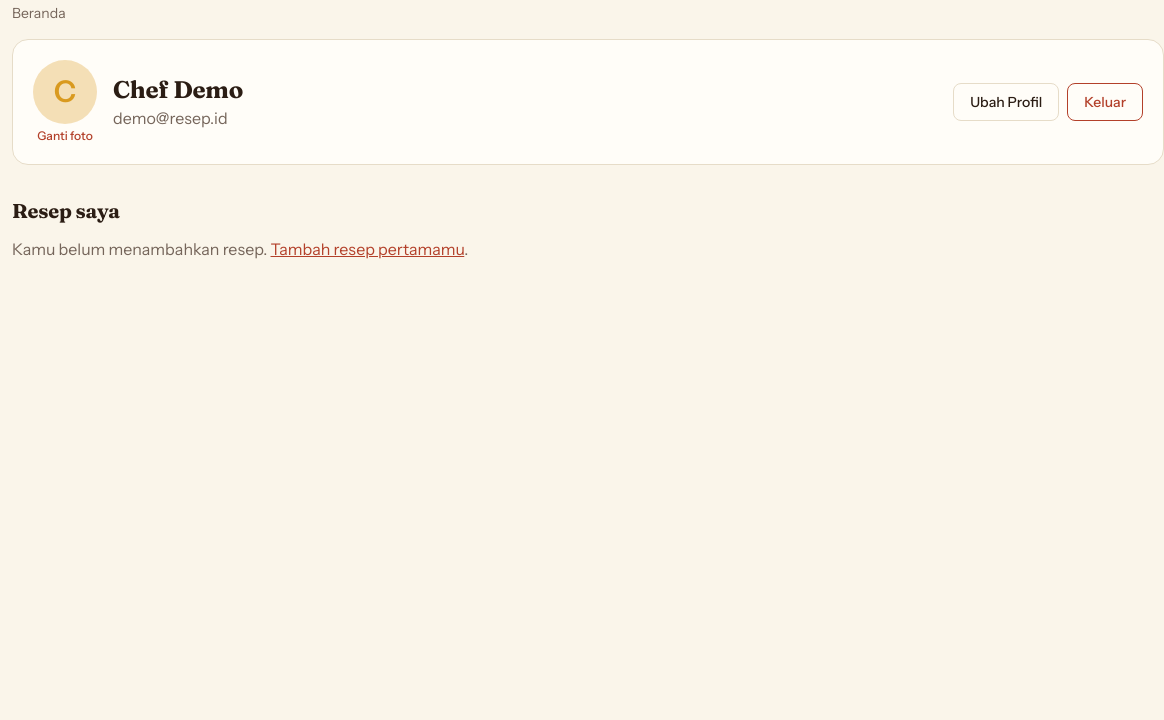
Test: ProfilePage › ubah profil: berhasil memperbarui nama
Click the button "Ubah Profil". click: (1006, 102)
box: x1=953 y1=83 x2=1059 y2=121
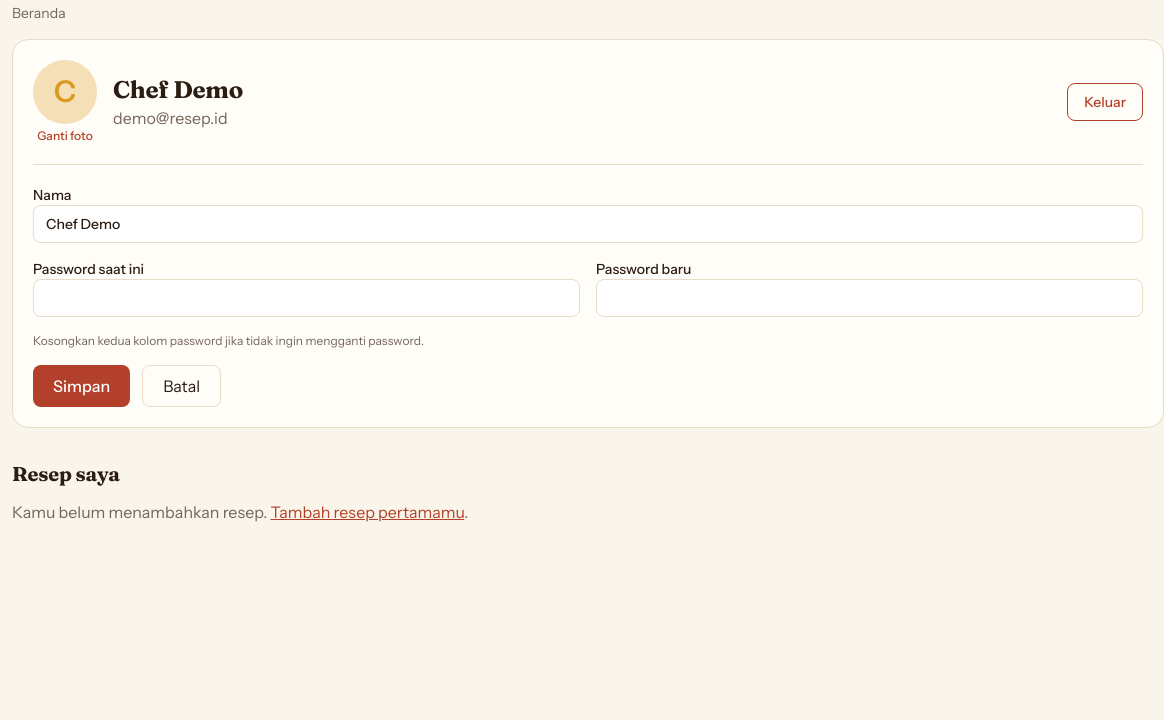
Expected: the button "Ubah Profil" is gone
Expected: the field labelled "Nama" holds "Chef Demo"
Replace the text in the field labelled "Nama" with "Nama Baru". click: (588, 224)
box: x1=33 y1=205 x2=1143 y2=243
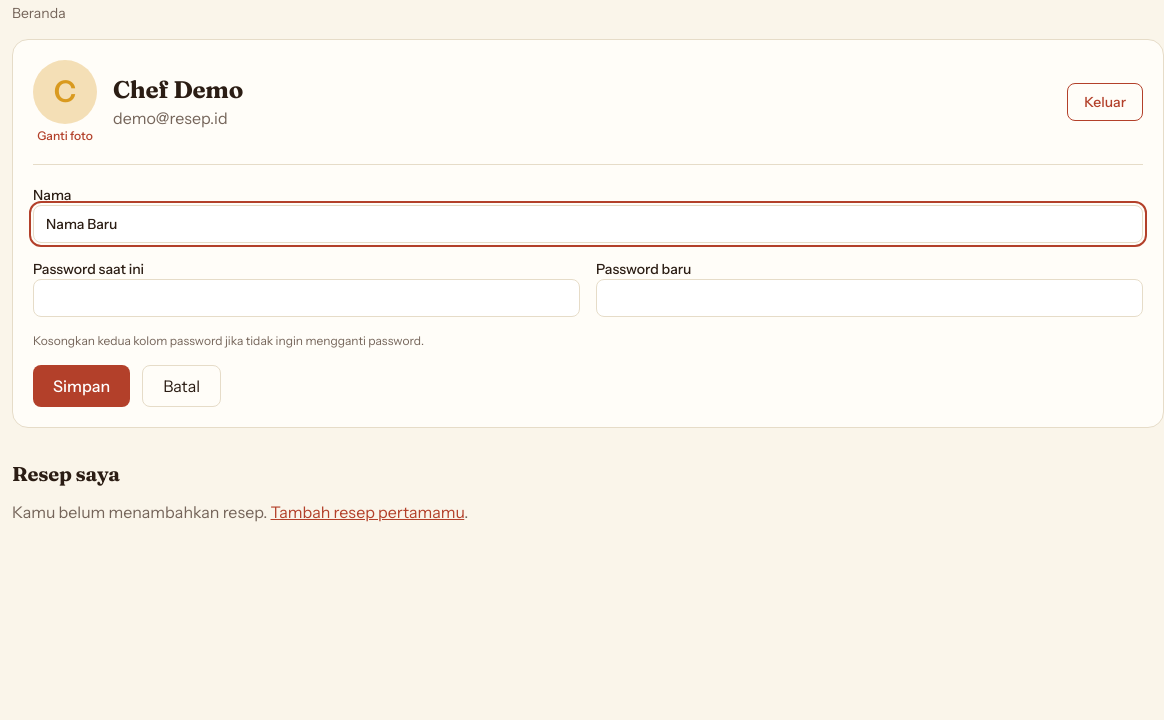
Type "demo1234" into the password field labelled "Password saat ini". click: (306, 298)
box: x1=33 y1=279 x2=580 y2=317
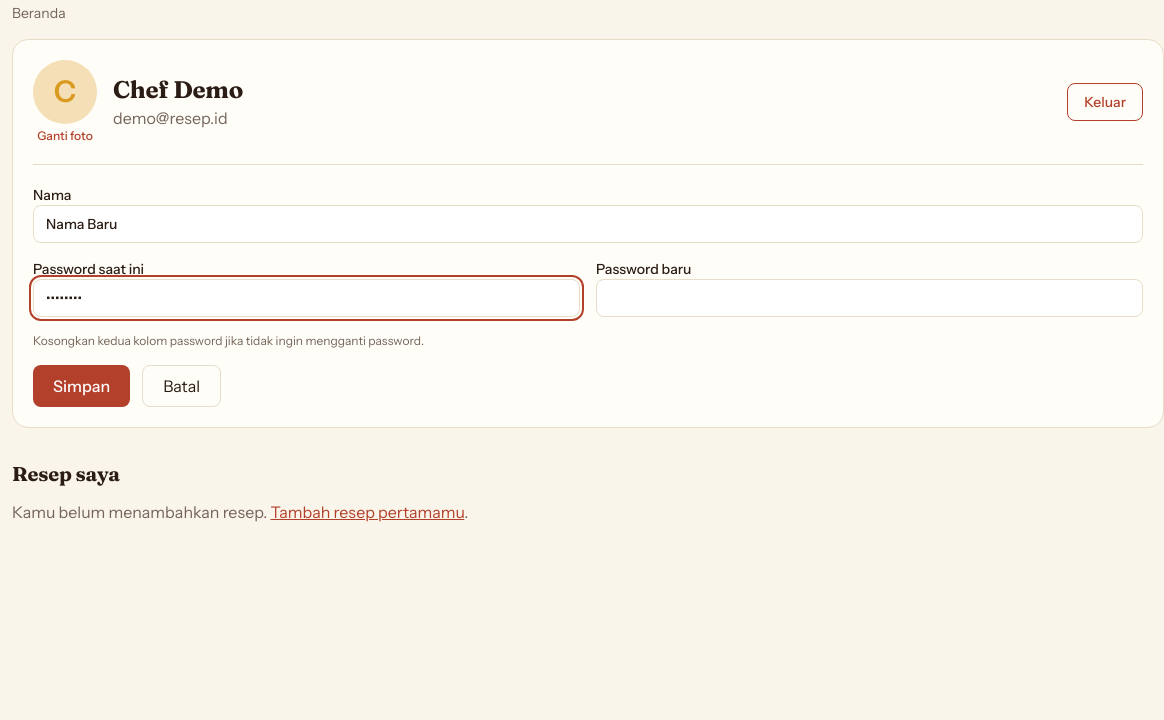
Type "baru12345" into the password field labelled "Password baru". click: (870, 298)
box: x1=596 y1=279 x2=1143 y2=317
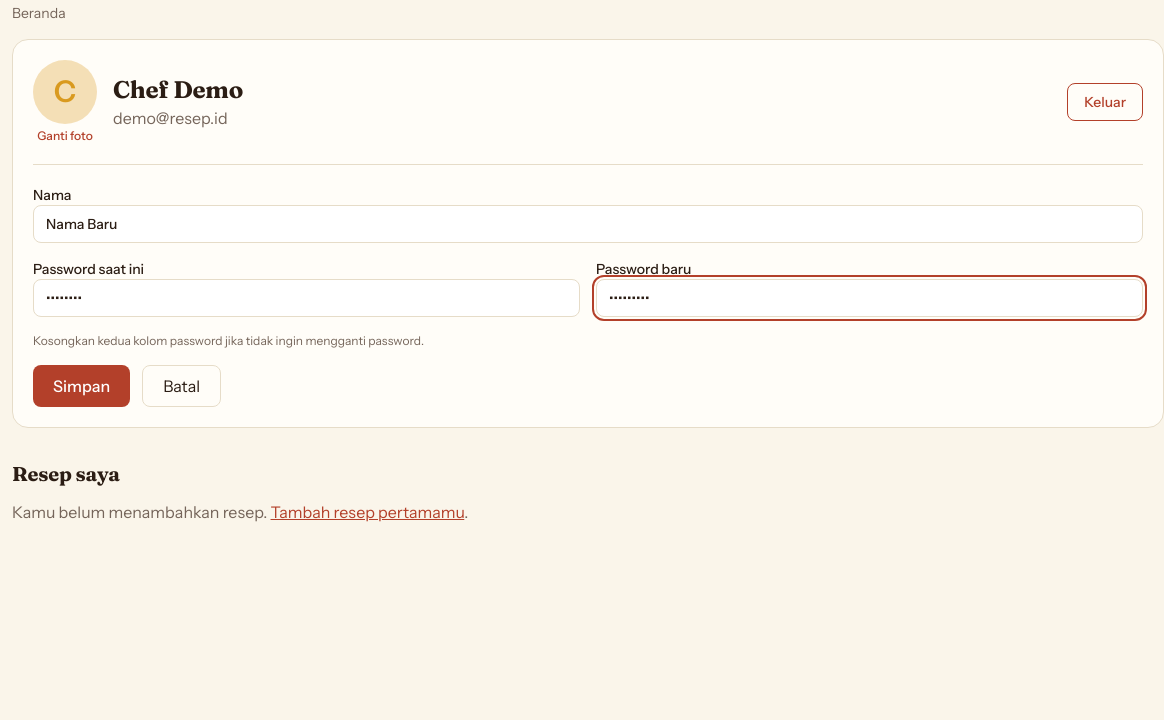
Click the button "Simpan". click: (82, 386)
box: x1=33 y1=365 x2=130 y2=407
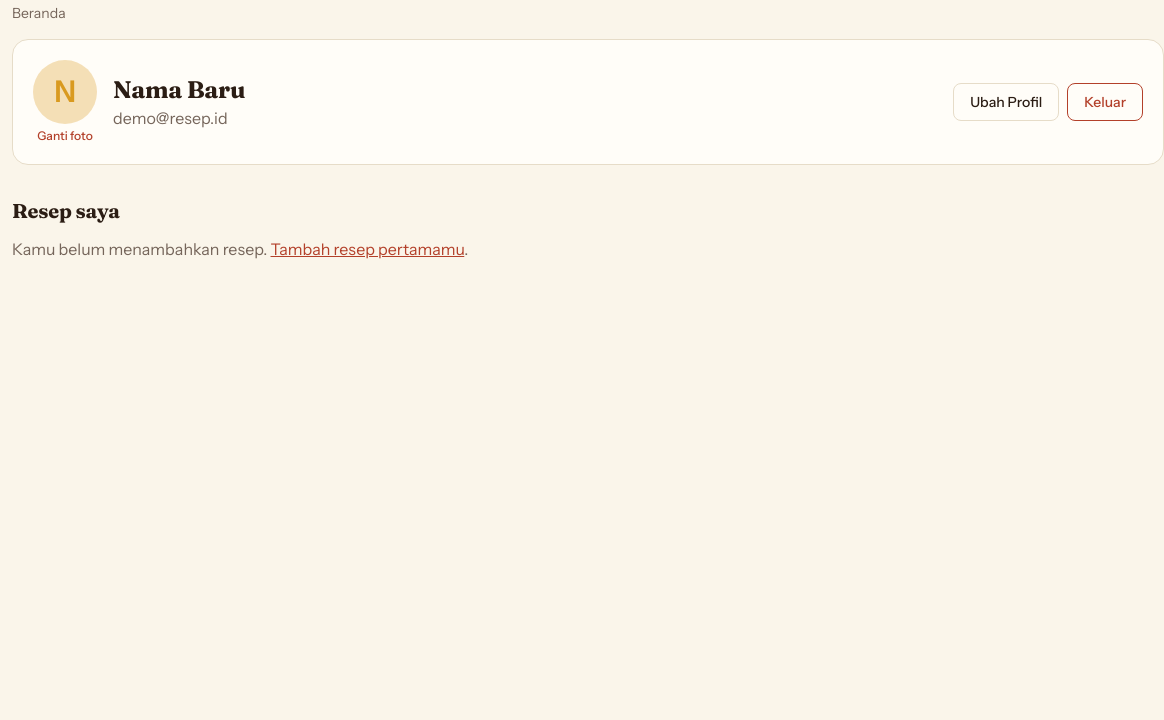
Expected: the heading "Nama Baru" is shown, x1=113 y1=75 x2=245 y2=104
Expected: the label labelled "Password baru" is gone
